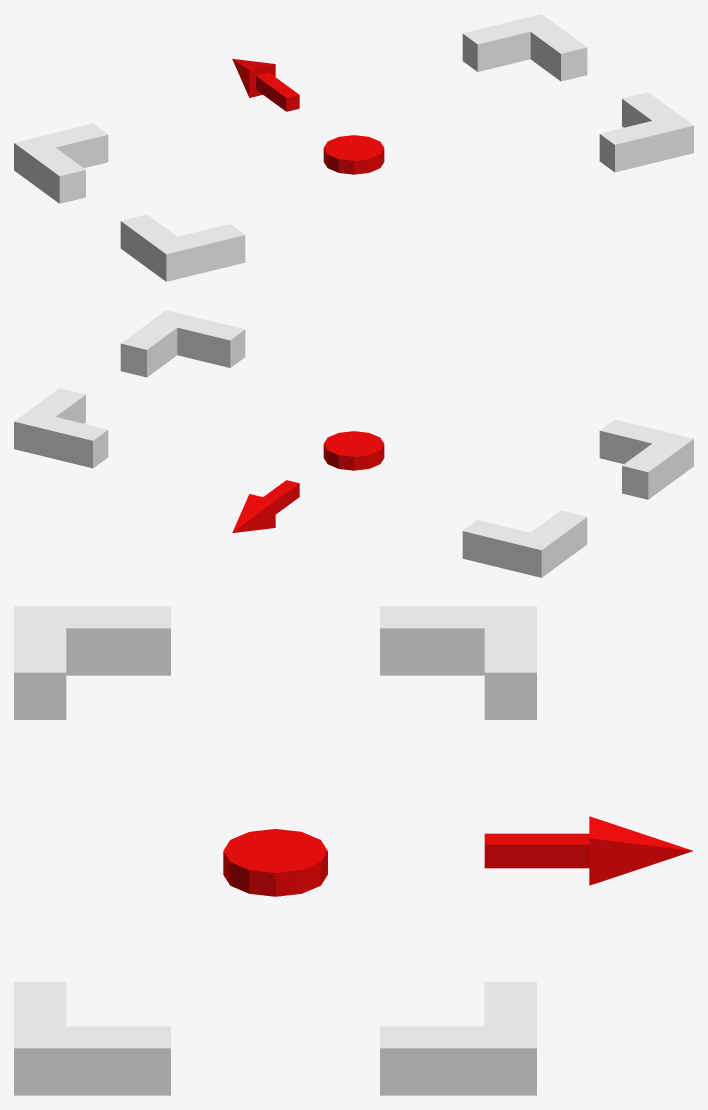
The picture shows the model from 3 angles, top to bottom: view 1: azimuth 30°, elevation 25°; view 2: azimuth 150°, elevation 25°; view 3: azimuth 270°, elevation 25°; orthographic projection. The views are drawn at different scales.
Parts seen in each view (by area): view 1: i_frame_Cube.001, pointer_Cylinder, arrow_Cube; view 2: i_frame_Cube.001, pointer_Cylinder, arrow_Cube; view 3: i_frame_Cube.001, arrow_Cube, pointer_Cylinder.
Part boxes in pixels (x1,y1,x2,y2): i_frame_Cube.001: (14,14,693,281); pointer_Cylinder: (323,135,384,174); arrow_Cube: (232,59,299,111); i_frame_Cube.001: (14,310,693,577); pointer_Cylinder: (323,431,384,470); arrow_Cube: (232,480,299,532); i_frame_Cube.001: (14,606,536,1095); arrow_Cube: (484,816,692,885); pointer_Cylinder: (223,829,327,896).
Size of the model in its own units: 4 by 0.2 by 2.6.
Materials: 2 (2 with a texture image).
